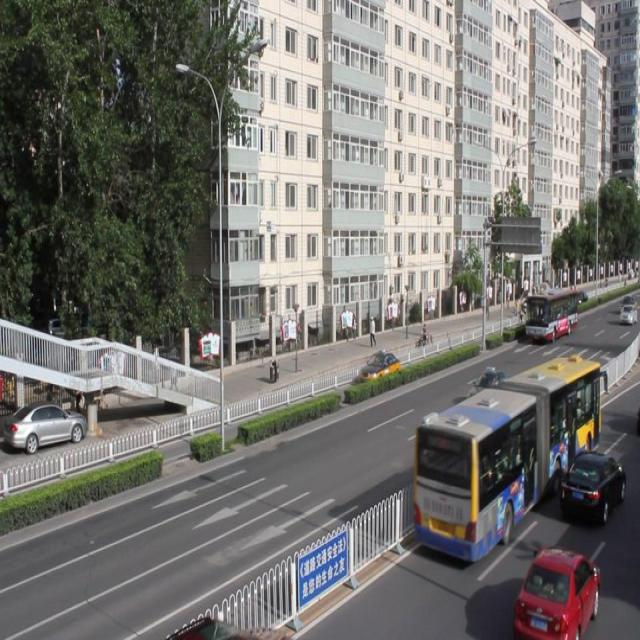car: (513, 545, 597, 640), (560, 448, 623, 518), (466, 368, 510, 414), (360, 349, 399, 386)
van: (413, 358, 596, 563)
